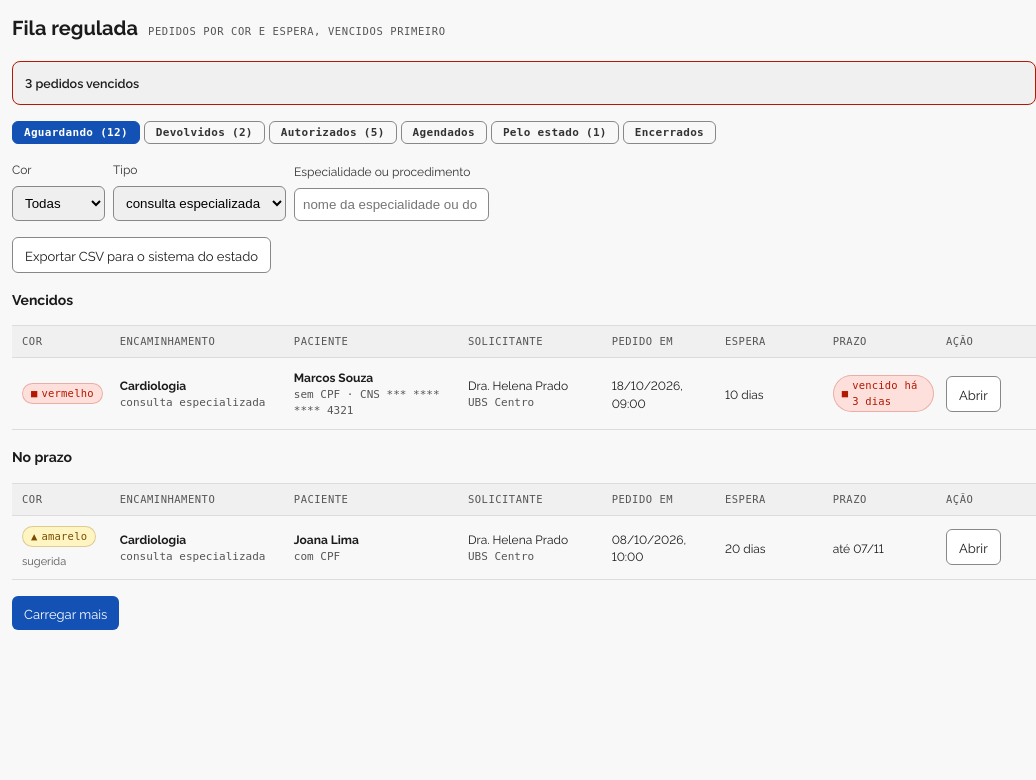
Test: RegulationQueue › Abrir mostra o detalhe; Voltar à fila sem decisão não relê a lista nem a contagem
The width and height of the screenshot is (1036, 780).
Step 1. Click the button with aria-label "Abrir pedido de Cardiologia" → (973, 547), box 946,529 -> 1001,565
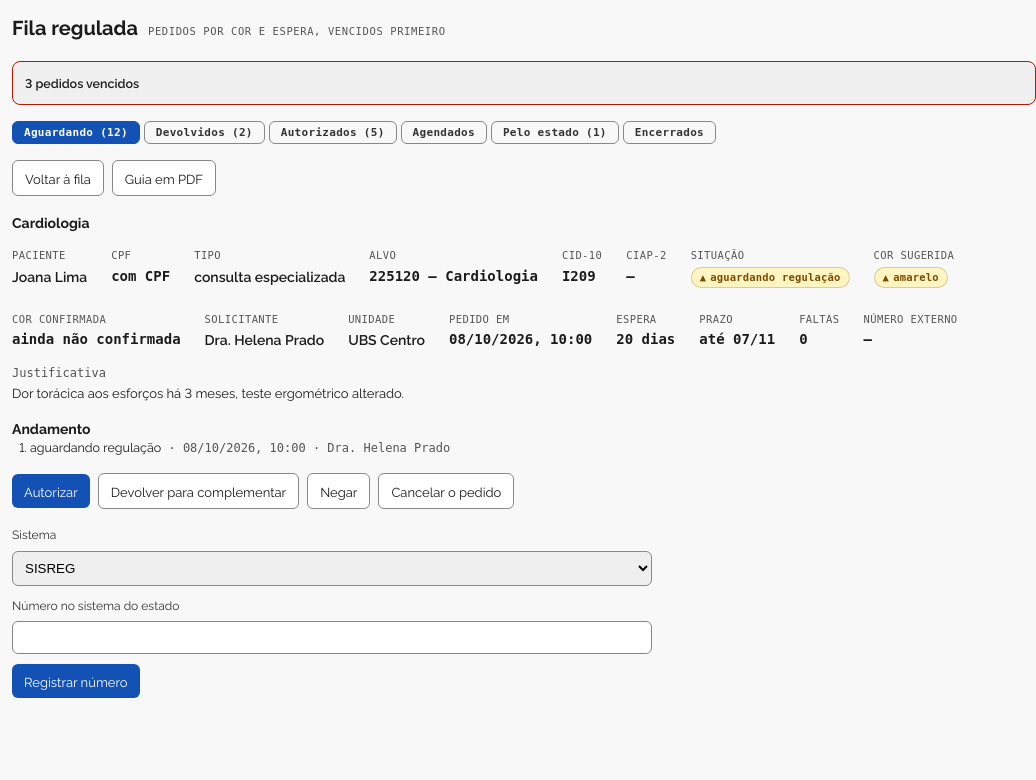
Expected: the element "Cardiologia" is shown
Expected: the heading "No prazo" is gone
Step 2. Click the button "Voltar à fila" → (58, 178), box 12,160 -> 104,196
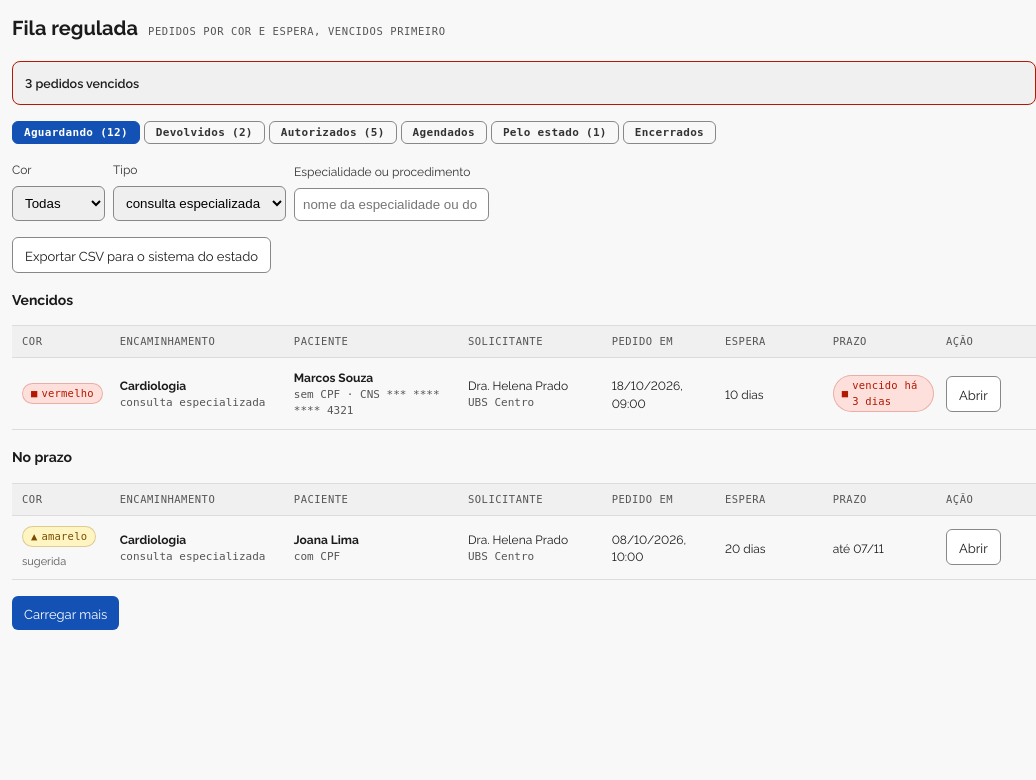
Expected: the element "No prazo" is shown, 12,446 -> 1035,580
